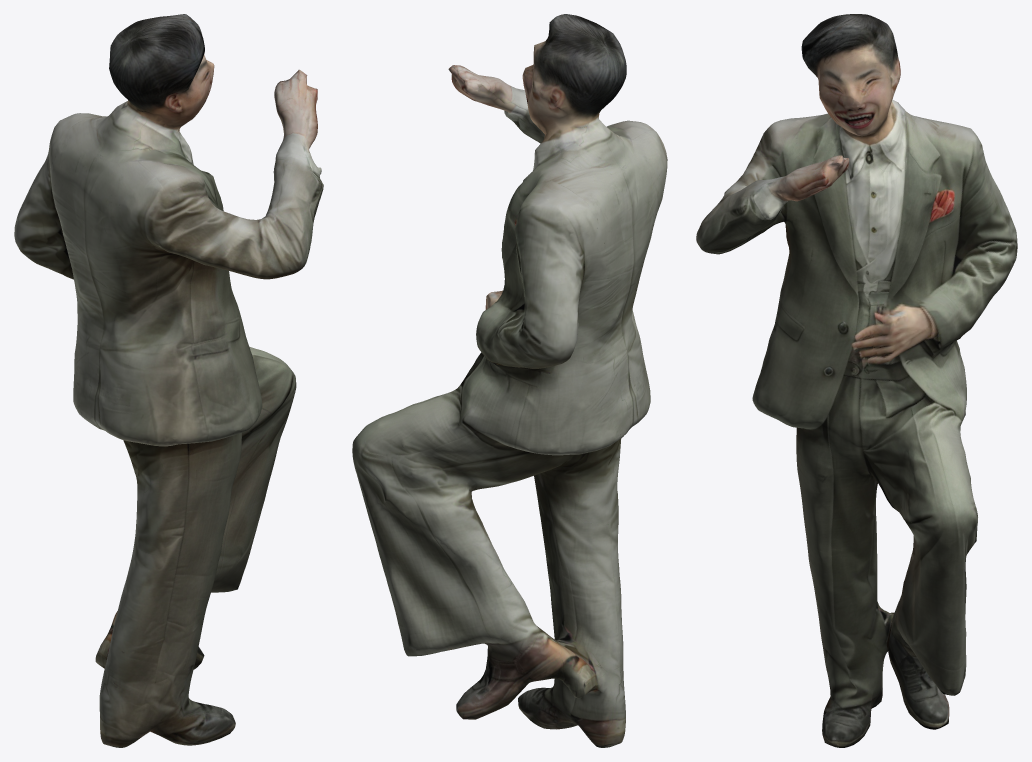
Rendered from a_young_Chinese_man_wearing_untidy_in_1930s_Shanghai_style,_d_0502025044_refine.obj.
3 views of the same model, side by side, from view 1: azimuth 30°, elevation 25°; view 2: azimuth 150°, elevation 25°; view 3: azimuth 270°, elevation 25° (orthographic). The views are drawn at different scales.
Parts seen in each view (by area): view 1: Mesh_0; view 2: Mesh_0; view 3: Mesh_0.
Boxes of the visible parts, x1,y1,x2,y2 form: Mesh_0: (14,14,323,747); Mesh_0: (352,14,667,747); Mesh_0: (696,14,1017,747).
Bounding box in the file's own units: 0.4332 × 1.2 × 0.4915.
Materials: 1 (1 with a texture image).
